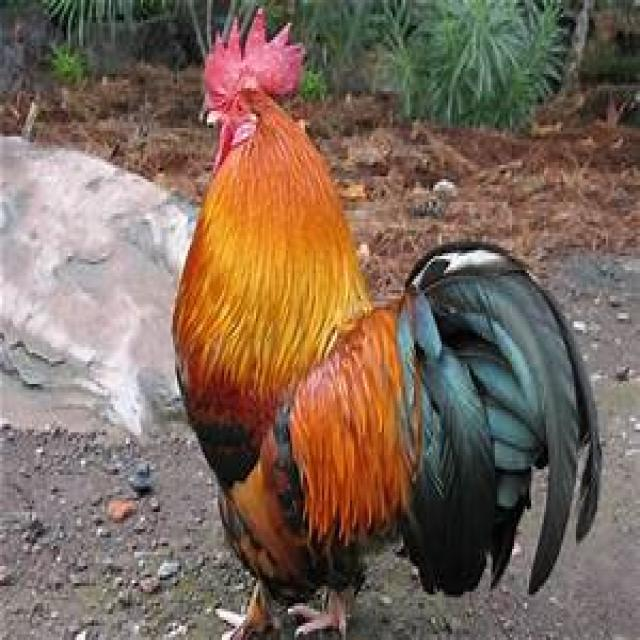hen: (171, 9, 595, 634)
